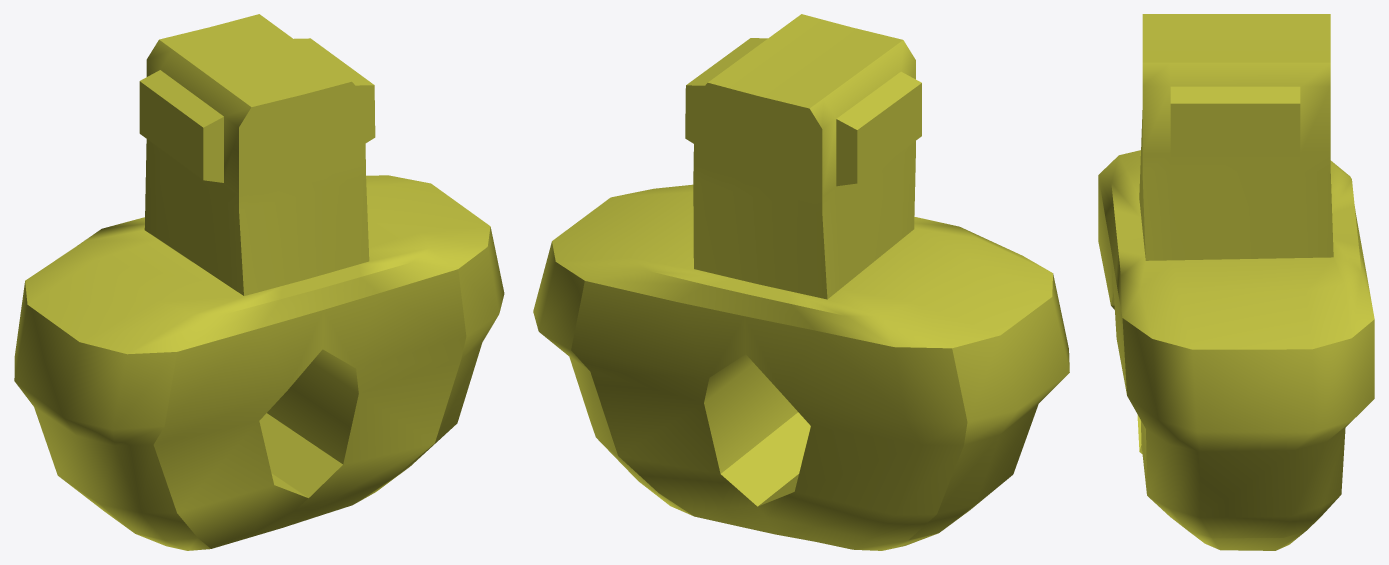
Rendered from Slider (1).fbx.
The picture shows the model from 3 angles, left to right: view 1: azimuth 30°, elevation 25°; view 2: azimuth 150°, elevation 25°; view 3: azimuth 270°, elevation 25°; orthographic projection.
Visible parts, largest first — view 1: Slider; view 2: Slider; view 3: Slider.
Boxes of the visible parts, x1=… form: Slider: x1=14, y1=14, x2=504, y2=550; Slider: x1=533, y1=14, x2=1069, y2=550; Slider: x1=1098, y1=14, x2=1374, y2=550.
Size of the model in its own units: 0.1138 by 0.107 by 0.0587.
Materials: 1 (1 with a texture image).
